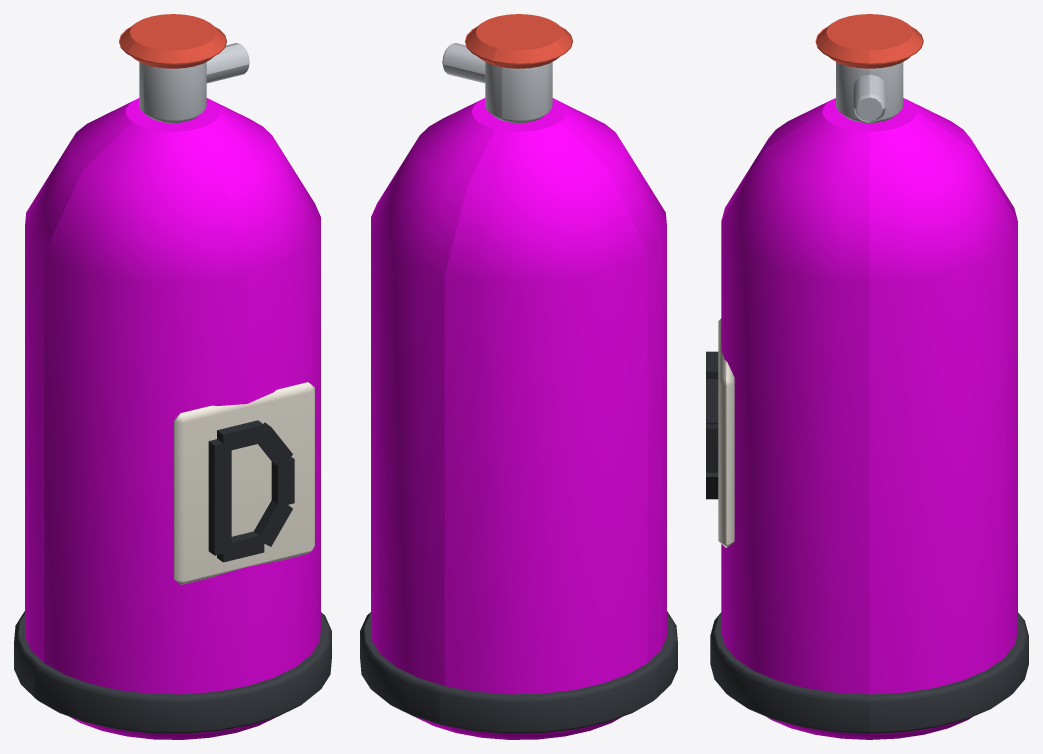
The model's file is objet_deuterium.glb.
3 views of the same model, side by side, from view 1: azimuth 30°, elevation 25°; view 2: azimuth 150°, elevation 25°; view 3: azimuth 270°, elevation 25° (orthographic).
Visible parts, largest first — view 1: bonbonne_teinte.006, bonbonne_etiquette.004, bonbonne_teinte_sombre.006, bonbonne_composant.004, bonbonne_composant_clair.006, bonbonne_led_rouge.004; view 2: bonbonne_teinte.006, bonbonne_teinte_sombre.006, bonbonne_composant_clair.006, bonbonne_led_rouge.004; view 3: bonbonne_teinte.006, bonbonne_teinte_sombre.006, bonbonne_led_rouge.004, bonbonne_composant_clair.006, bonbonne_etiquette.004, bonbonne_composant.004.
Boxes of the visible parts, x1,y1,x2,y2 form: bonbonne_teinte.006: (25,98,320,739); bonbonne_etiquette.004: (174,382,314,584); bonbonne_teinte_sombre.006: (14,611,331,733); bonbonne_composant.004: (208,420,294,562); bonbonne_composant_clair.006: (139,43,249,122); bonbonne_led_rouge.004: (119,14,226,68); bonbonne_teinte.006: (371,98,666,739); bonbonne_teinte_sombre.006: (360,611,677,733); bonbonne_composant_clair.006: (442,43,552,122); bonbonne_led_rouge.004: (465,14,572,68); bonbonne_teinte.006: (721,98,1017,739); bonbonne_teinte_sombre.006: (710,612,1028,733); bonbonne_led_rouge.004: (815,14,923,68); bonbonne_composant_clair.006: (836,62,903,122); bonbonne_etiquette.004: (718,318,734,547); bonbonne_composant.004: (706,351,718,499).
Bounding box in the file's own units: 0.118 × 0.2675 × 0.1196.
